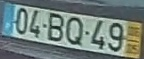0: (14, 6, 28, 35)
4: (89, 19, 105, 50), (27, 9, 41, 38)
9: (107, 21, 124, 52)
B: (45, 12, 64, 41)
Q: (64, 15, 84, 46)
